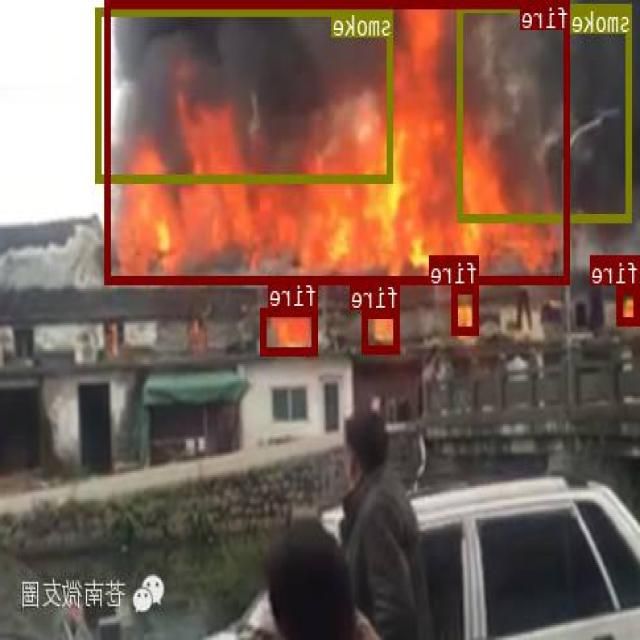fire: (107, 0, 571, 283), (261, 306, 319, 354), (364, 308, 401, 351), (453, 284, 480, 334), (619, 283, 640, 325)
smoke: (98, 6, 394, 182), (459, 2, 633, 220)
